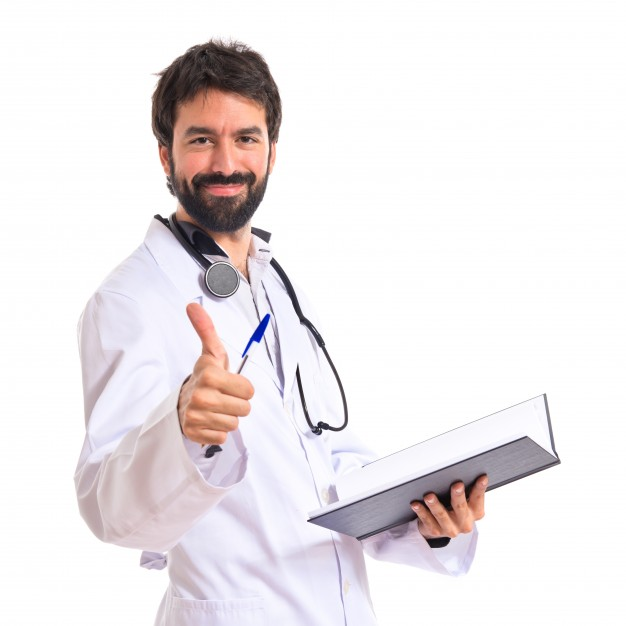thumbsup: (183, 303, 255, 444)
